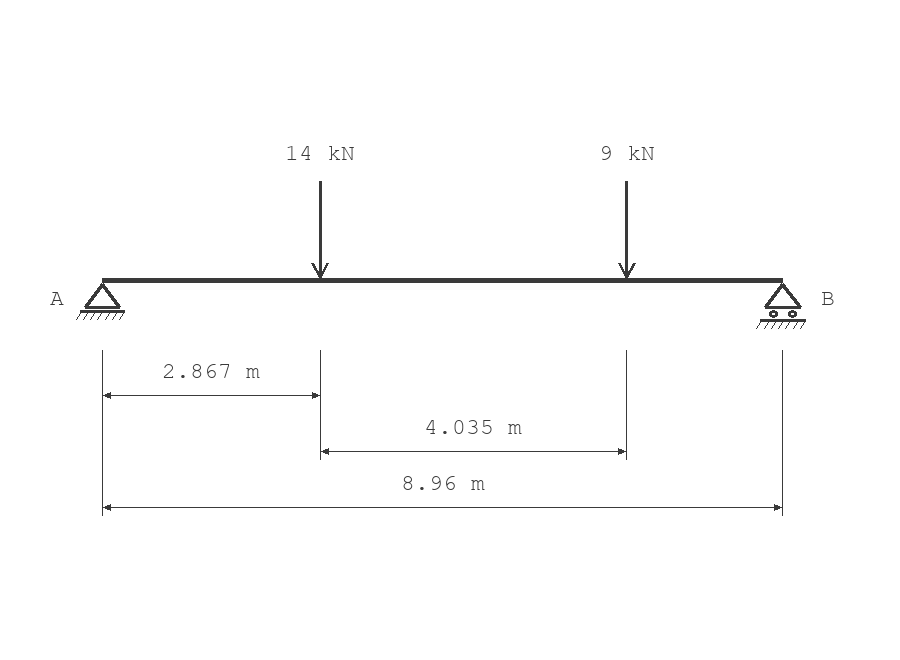pin_support: (76, 283, 125, 320)
point_load: (311, 181, 329, 278), (618, 181, 636, 278)
roller_support: (756, 283, 806, 329)
